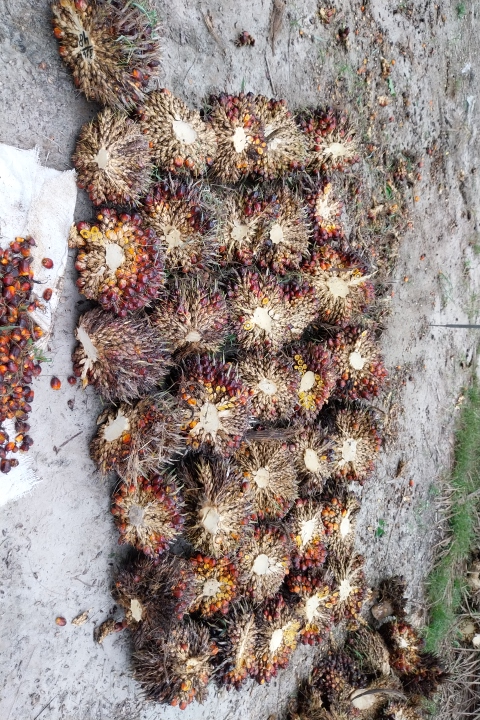janjang: (73, 208, 169, 312), (68, 105, 155, 202), (66, 313, 178, 382), (298, 232, 378, 317), (90, 402, 177, 470), (201, 92, 266, 180)
